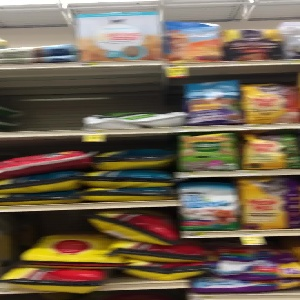void: (1, 67, 81, 134)
